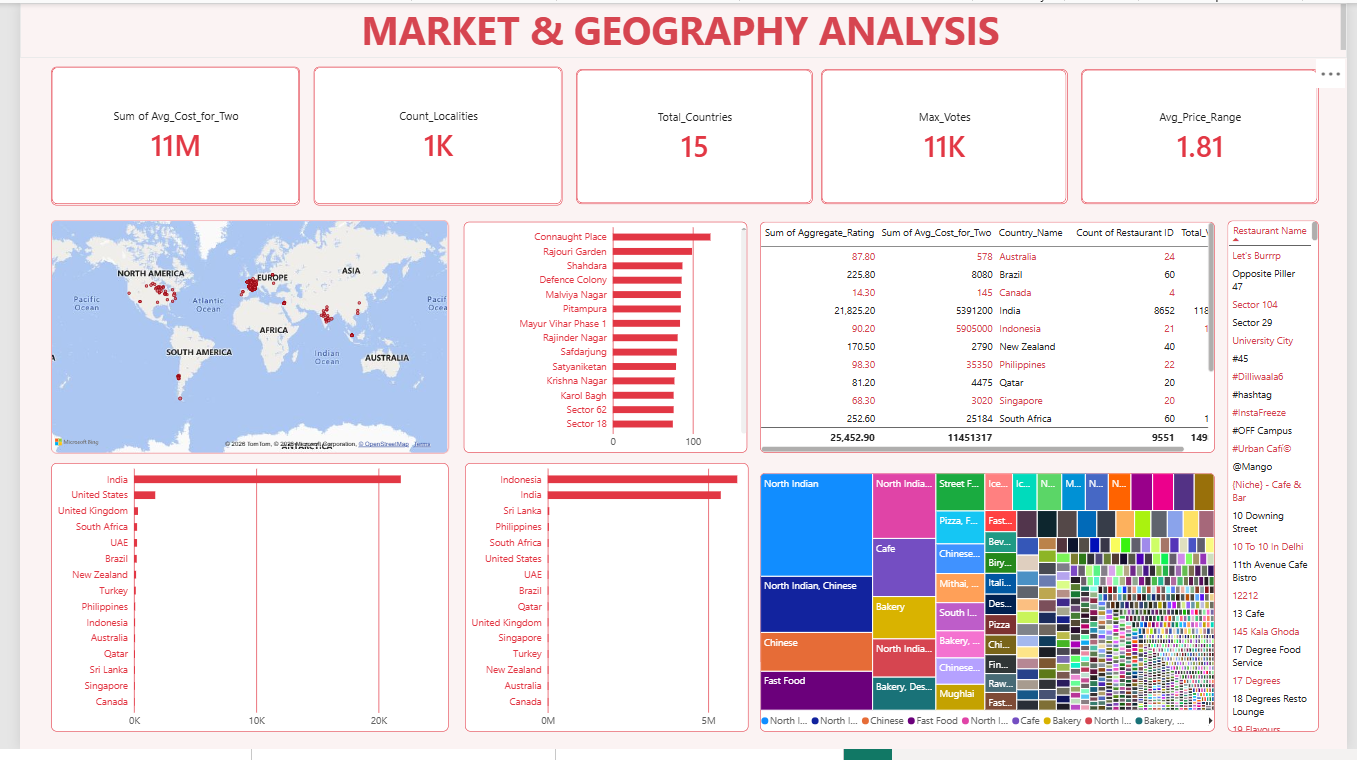

What the dashboard file says about the page in this screenshot:
{"tool":"powerbi","page":{"name":"MARKET & GEOGRAPHY ANALYSIS","canvas":[1920,1080],"ordinal":2},"visuals":[{"type":"cardVisual","fields":{"Data":["Sum(zomato.Avg_Cost_for_Two)"]},"box":[45.2,92.3,360.1,200.9],"z":0},{"type":"cardVisual","fields":{"Data":["Country.Count_Localities"]},"box":[425.3,92.3,360.1,200.9],"z":1000},{"type":"cardVisual","fields":{"Data":["zomato.Total_Countries"]},"box":[805.3,95.9,342,195.4],"z":2000},{"type":"cardVisual","fields":{"Data":["zomato.Max_Votes"]},"box":[1160,95.9,356.5,195.4],"z":3000},{"type":"map","fields":{"Category":["zomato.Latitude","zomato.Longitude"],"Size":["CountNonNull(zomato.Restaurant ID)"]},"box":[45.2,314.9,575.5,336.6],"z":4000},{"type":"tableEx","fields":{"Values":["zomato.Restaurant Name"]},"box":[1748.1,314.9,132.1,740.2],"z":6000},{"type":"tableEx","fields":{"Values":["Sum(zomato.Aggregate_Rating)","Sum(zomato.Avg_Cost_for_Two)","Country.Country_Name","CountNonNull(zomato.Restaurant ID)","zomato.Total_Votes"]},"box":[1071.3,316.7,658.7,334.8],"z":7000},{"type":"clusteredBarChart","fields":{"Category":["Country.Country_Name"],"Y":["Sum(zomato.Aggregate_Rating)"]},"box":[45.2,666,575.5,389.1],"z":8000},{"type":"clusteredBarChart","fields":{"Category":["zomato.Locality"],"Y":["Country.Total Restaurants"]},"box":[642.4,316.7,410.8,334.8],"z":9000},{"type":"clusteredBarChart","fields":{"Category":["Country.Country_Name"],"Y":["Sum(zomato.Avg_Cost_for_Two)"]},"box":[644.2,666,410.8,389.1],"z":10000},{"type":"cardVisual","fields":{"Data":["zomato.Avg_Price_Range"]},"box":[1536.4,95.9,343.8,195.4],"z":11000},{"type":"treemap","fields":{"Group":["zomato.Cuisines"],"Values":["CountNonNull(zomato.Restaurant ID)"]},"box":[1071.3,680.4,658.7,374.6],"z":12000},{"type":"textbox","box":[0,0,1920.1,79.6],"z":12002}]}

Visuals, with their boxes in screenshot pixels (x1, y1, x2, y2), scaled from the page's 1920x1080 canvas onto the 1357x760 screenshot:
cardVisual - Sum(zomato.Avg_Cost_for_Two): box=[32, 65, 286, 206]
cardVisual - Country.Count_Localities: box=[301, 65, 555, 206]
cardVisual - zomato.Total_Countries: box=[569, 67, 811, 205]
cardVisual - zomato.Max_Votes: box=[820, 67, 1072, 205]
map - zomato.Latitude x zomato.Longitude: box=[32, 222, 439, 458]
tableEx - zomato.Restaurant Name: box=[1236, 222, 1329, 742]
tableEx - Sum(zomato.Aggregate_Rating) x Sum(zomato.Avg_Cost_for_Two): box=[757, 223, 1223, 458]
clusteredBarChart - Country.Country_Name x Sum(zomato.Aggregate_Rating): box=[32, 469, 439, 742]
clusteredBarChart - zomato.Locality x Country.Total Restaurants: box=[454, 223, 744, 458]
clusteredBarChart - Country.Country_Name x Sum(zomato.Avg_Cost_for_Two): box=[455, 469, 746, 742]
cardVisual - zomato.Avg_Price_Range: box=[1086, 67, 1329, 205]
treemap - zomato.Cuisines x CountNonNull(zomato.Restaurant ID): box=[757, 479, 1223, 742]
textbox: box=[0, 0, 1356, 56]
